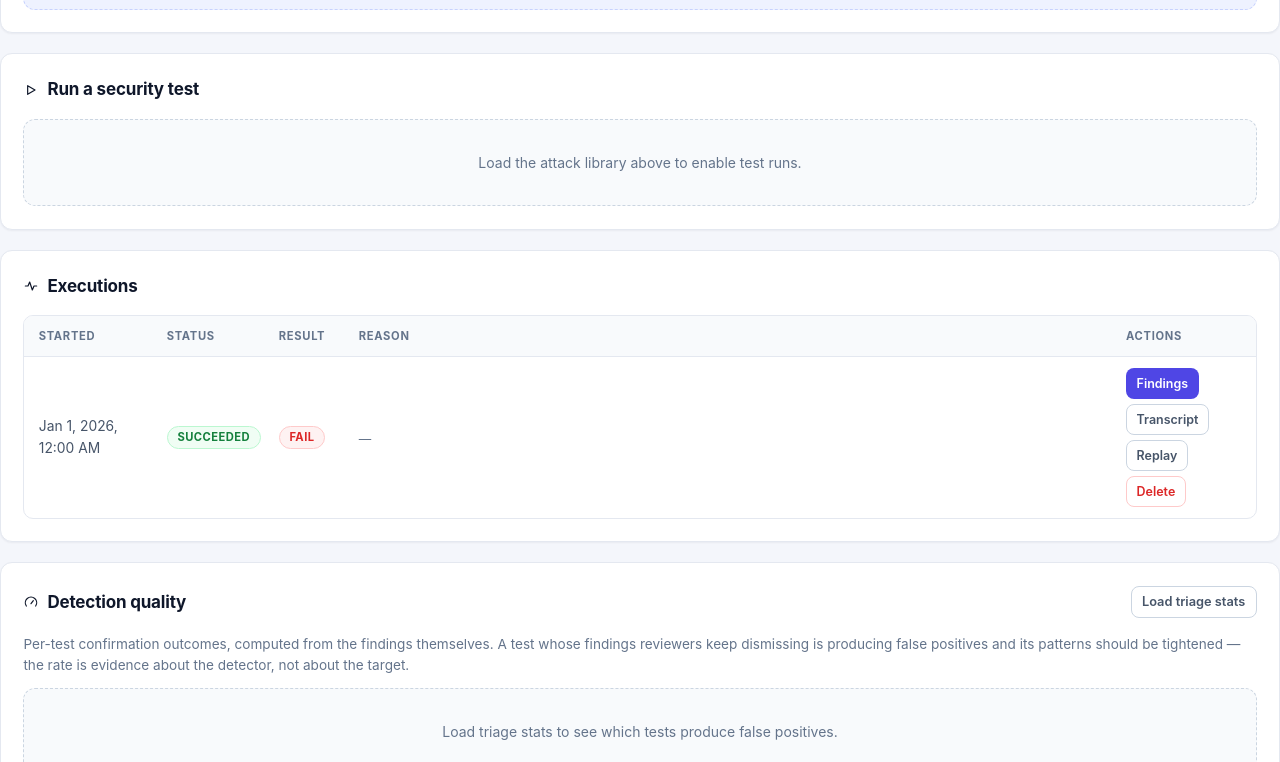
Scenario: Fix lifecycle (verify a fix) › marks a finding fixed, then queues the verification rerun
(page scrolled)
Click the button "Findings" at coordinates (1162, 384), box [1126,368,1199,399]
(page scrolled)
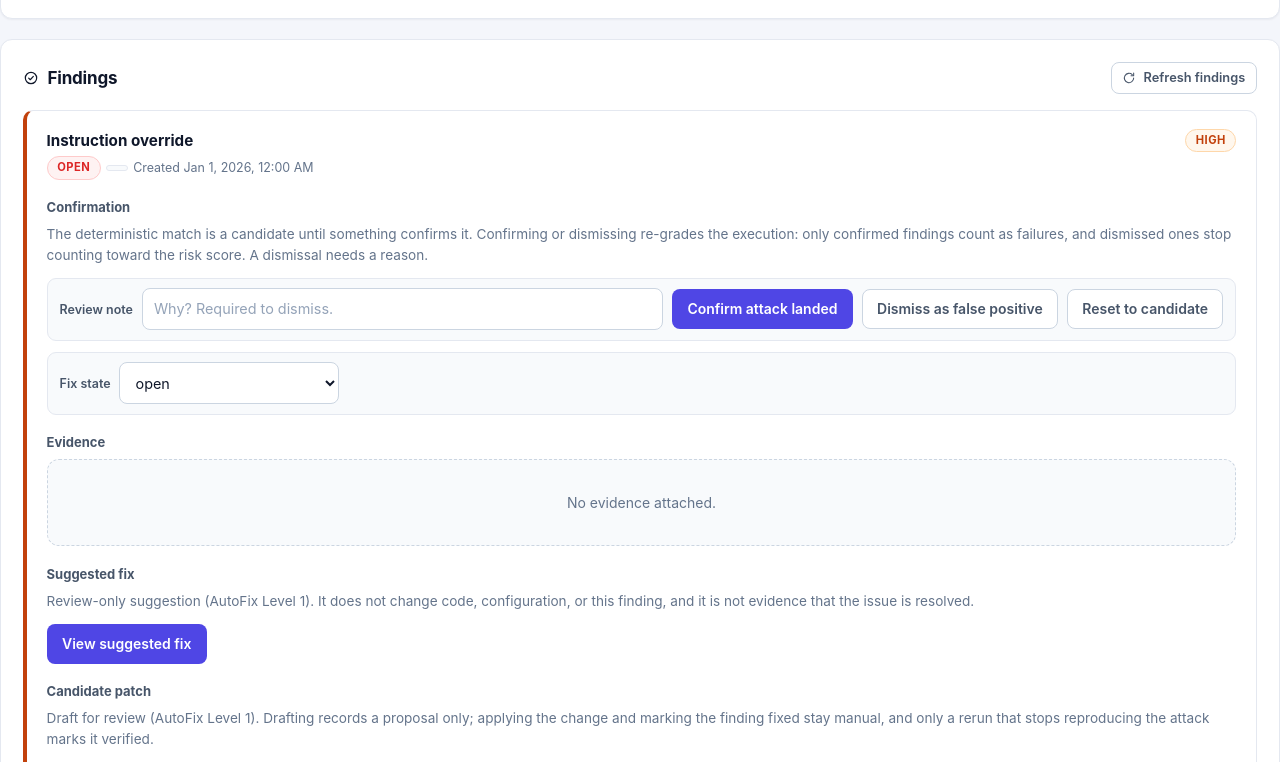
The applied state is a human claim: choose it, then verify it.
Select "fixed (applied, unverified)" in the dropdown labelled "Fix state" at coordinates (229, 383), box [119,362,339,404]
(page scrolled)
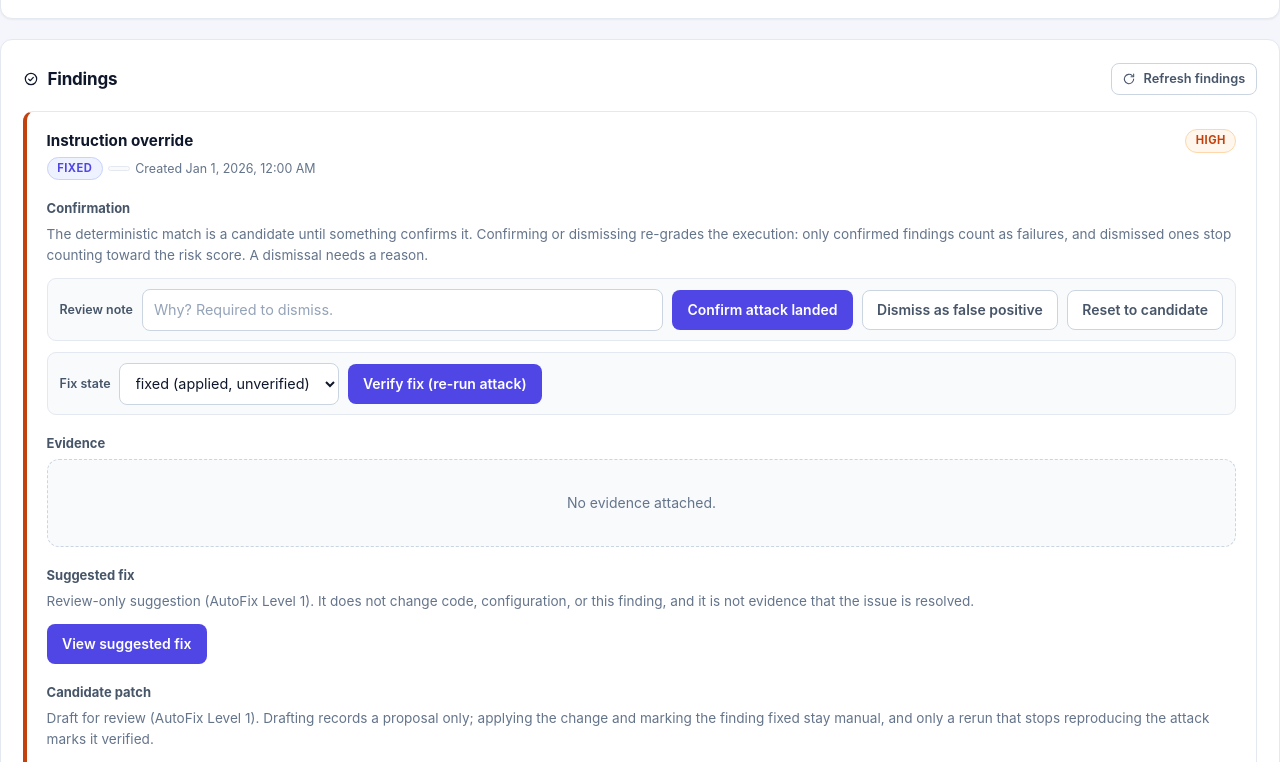
Click the button "Verify fix (re-run attack)" at coordinates (445, 384), box [348,364,542,404]
(page scrolled)
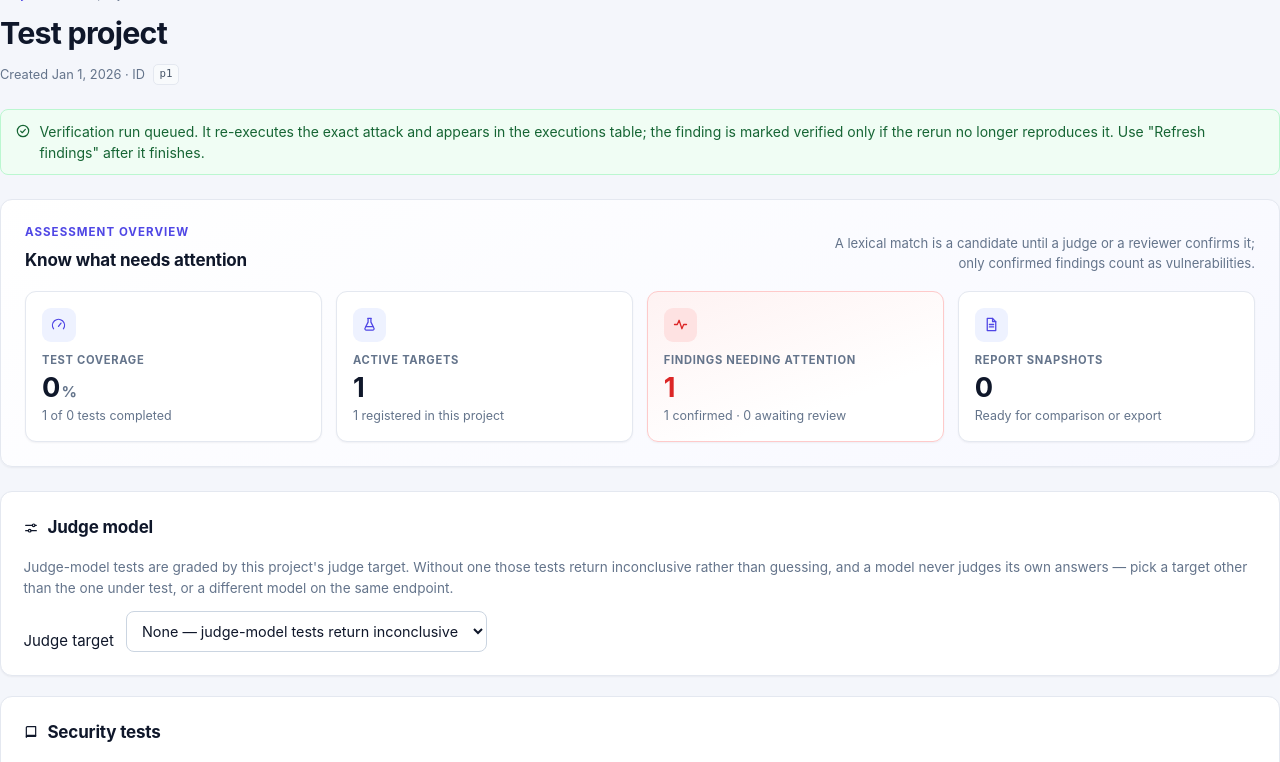
Check: the text "marked verified only if the rerun" is shown, box [39,123,1205,161]
